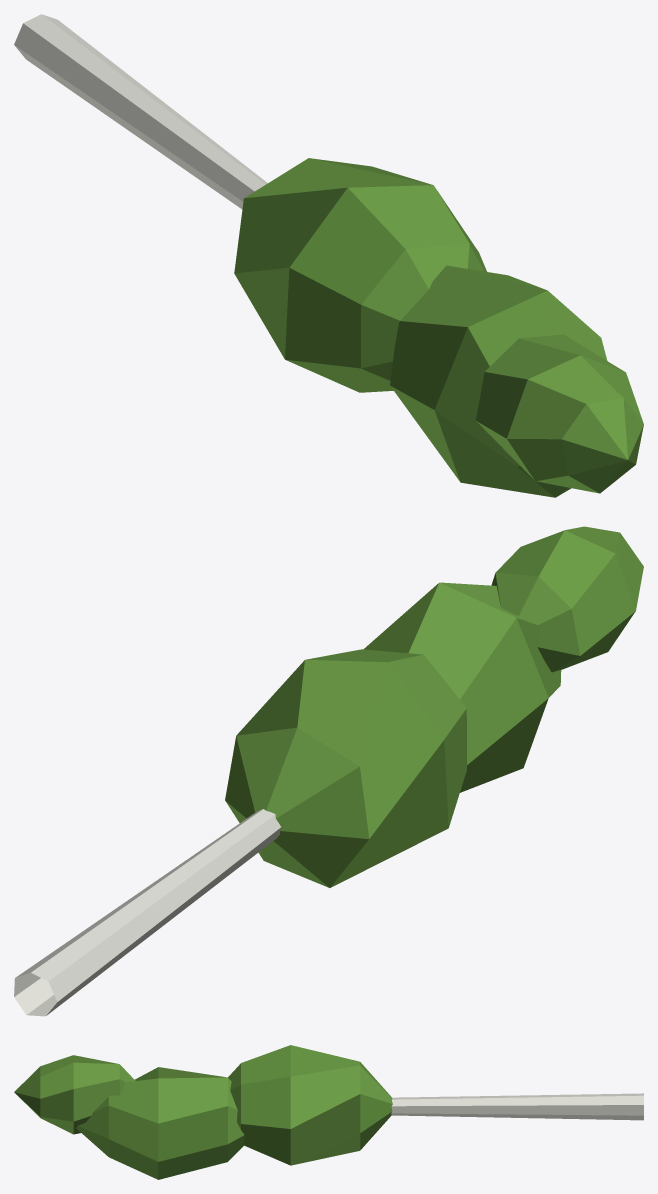
The model's file is growth_0.glb.
3 renders of one model, top to bottom at view 1: azimuth 30°, elevation 25°; view 2: azimuth 150°, elevation 25°; view 3: azimuth 270°, elevation 25°, orthographic. The views are drawn at different scales.
Parts seen in each view (by area): view 1: tree_03_growth_0; view 2: tree_03_growth_0; view 3: tree_03_growth_0.
Boxes of the visible parts, x1,y1,x2,y2 form: tree_03_growth_0: (14, 14, 643, 497); tree_03_growth_0: (14, 526, 643, 1016); tree_03_growth_0: (14, 1045, 643, 1179).
Bounding box in the file's own units: 3.91 × 4.35 × 21.04.
